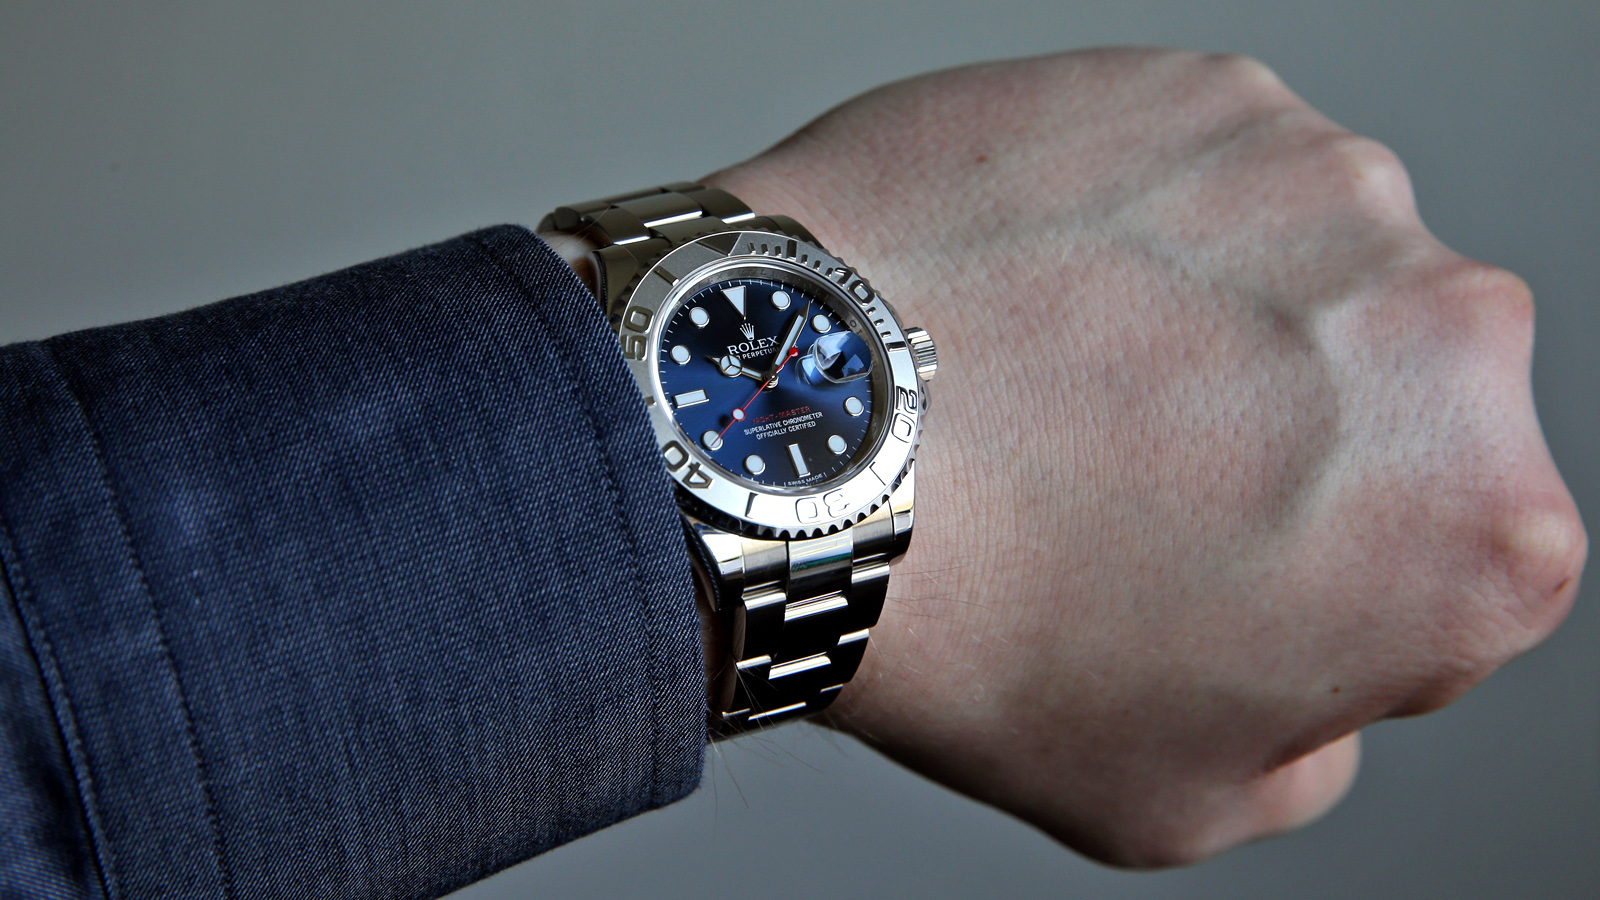clock: (656, 259, 892, 495)
